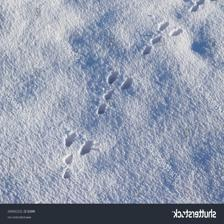rabbit: (59, 130, 95, 182), (140, 17, 185, 57), (94, 72, 135, 114)
